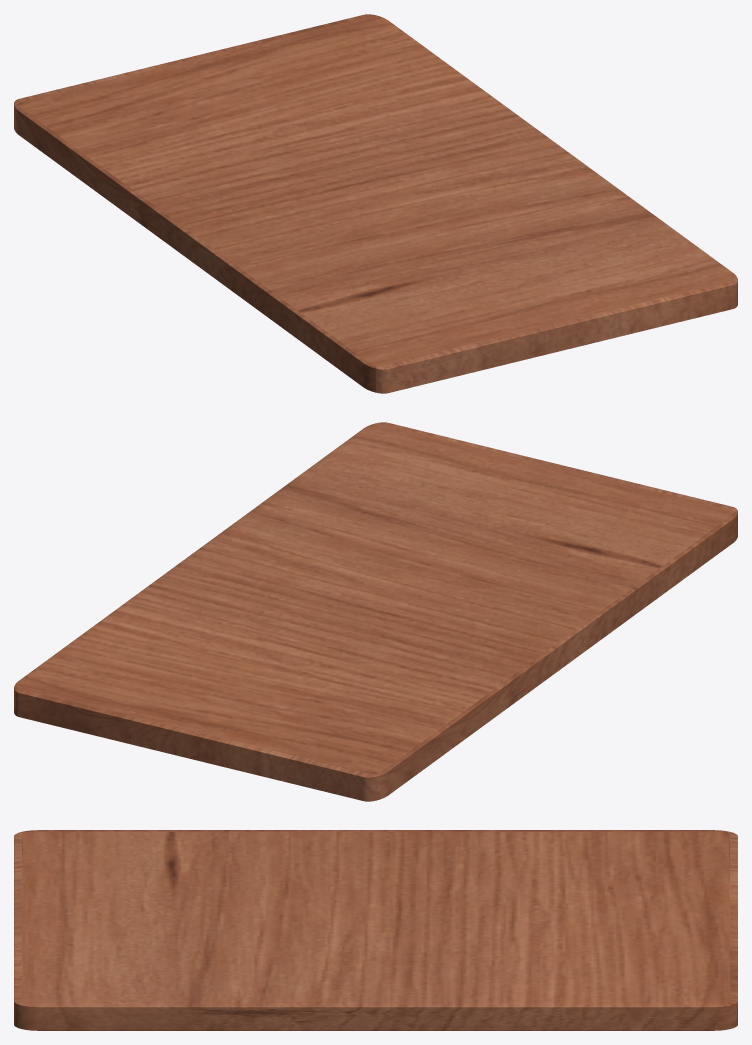
File: bevelCedro.glb
3 renders of one model, top to bottom at view 1: azimuth 30°, elevation 25°; view 2: azimuth 150°, elevation 25°; view 3: azimuth 270°, elevation 25°, orthographic.
Visible parts, largest first — view 1: Cube; view 2: Cube; view 3: Cube.
Boxes of the visible parts, x1,y1,x2,y2 form: Cube: (14, 14, 737, 393); Cube: (14, 422, 737, 801); Cube: (14, 830, 737, 1030).
Size of the model in its own units: 2.57 by 0.1714 by 4.44.
Materials: 1 (1 with a texture image).
